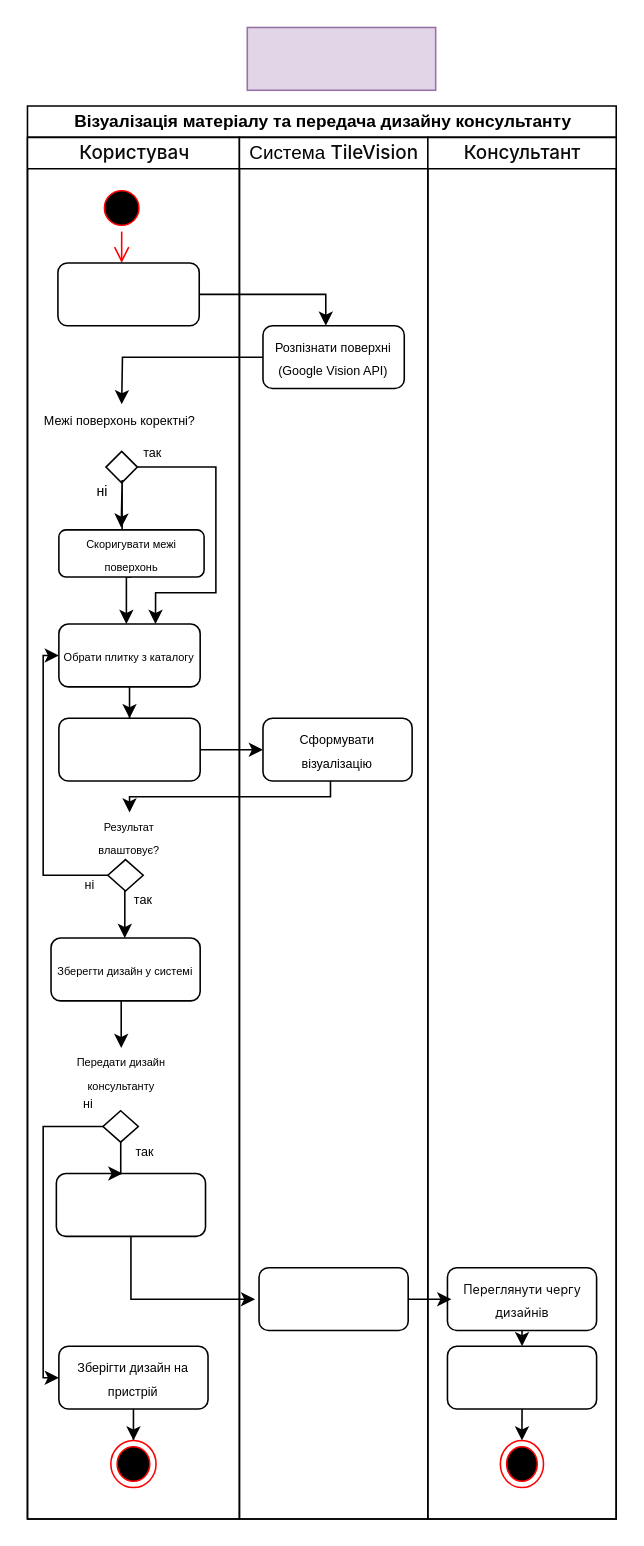
The diagram is 644 pixels wide and 1546 high, and some of its shapes have lost their labels. The centre of each missing label's shape, as x and y in pixels:
TileVision: point 341,58
Вказати контакти для зв'язку: point 130,1204
Завантажити фото приміщення: point 127,293
Накласти плитку на поверхню: point 128,749
Переглянути дизайн, зв'язатися з клієнтом: point 521,1377
Передати дизайн у чергу магазину: point 332,1298
